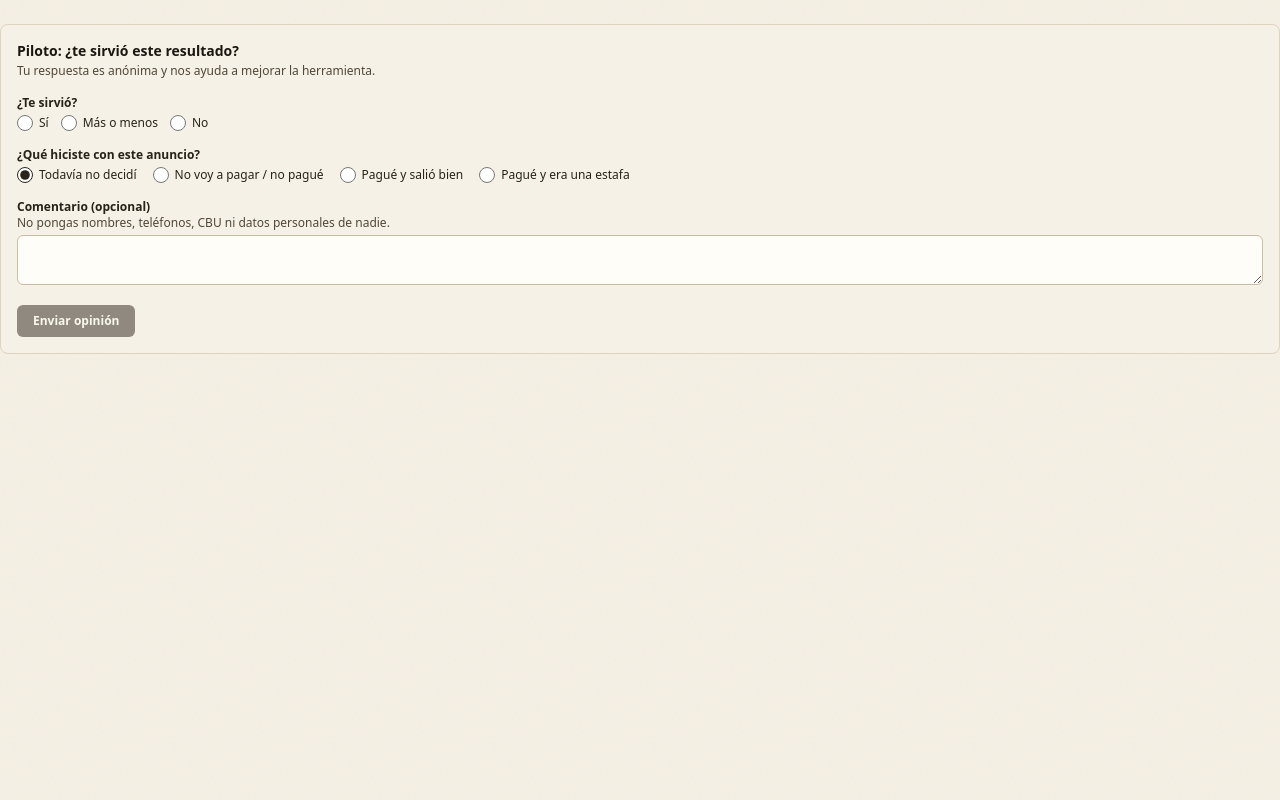
FeedbackCard › si falla el envío avisa con role=alert y deja reintentar sin perder lo escrito
Click the radio button labelled "Sí" at (25, 123), box [17,115,33,131]
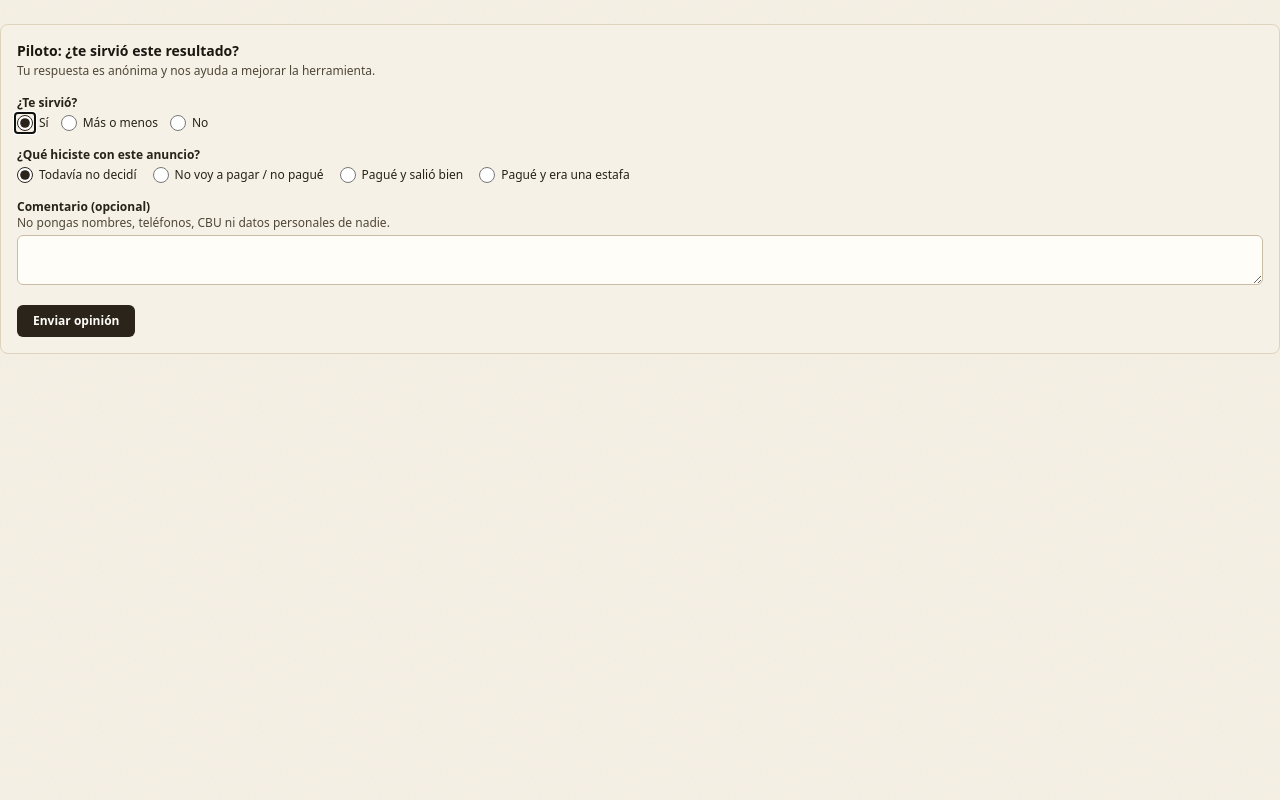
Type "texto" into the text box labelled "Comentario (opcional)" at (640, 260), box [17,235,1263,285]
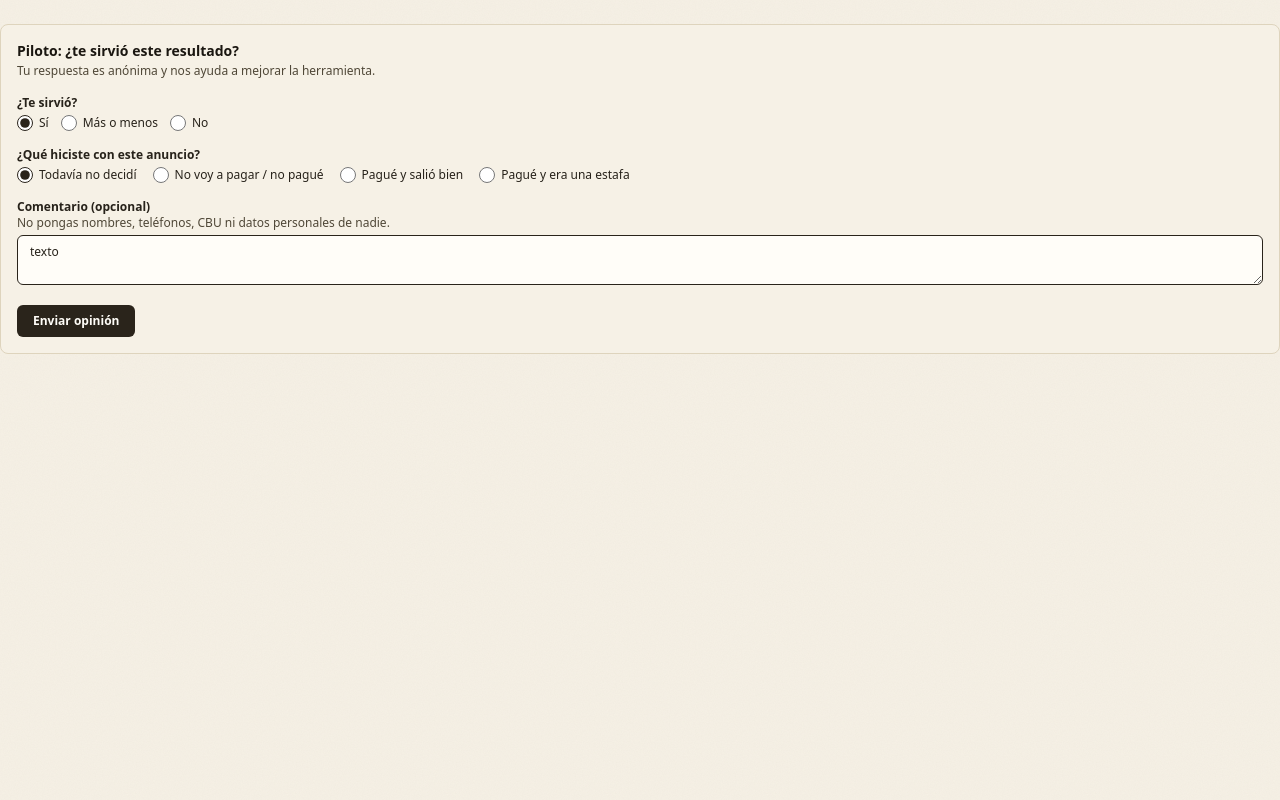
Click the button "Enviar opinión" at (76, 321), box [17,305,136,337]
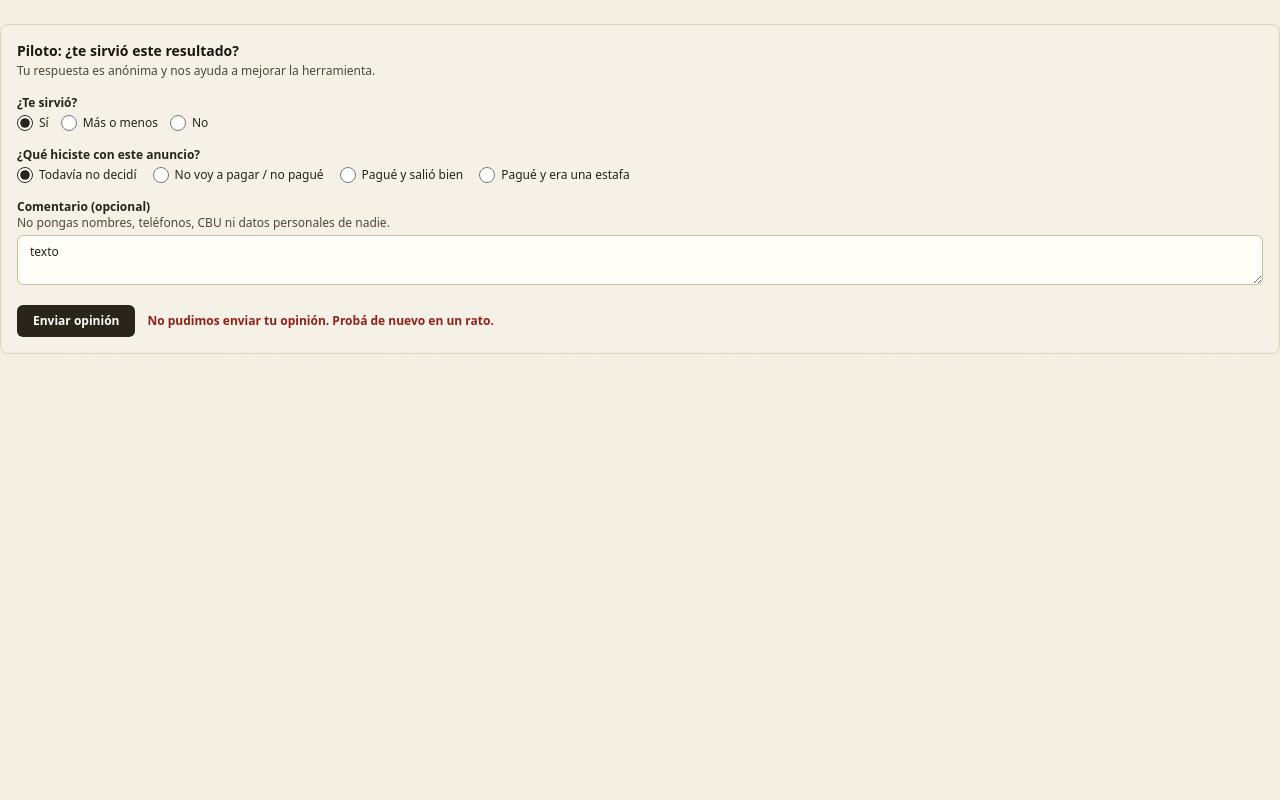
Expected: the message shows "No pudimos enviar", [148,312,494,329]
Click the button "Enviar opinión" at (76, 321), box [17,305,136,337]
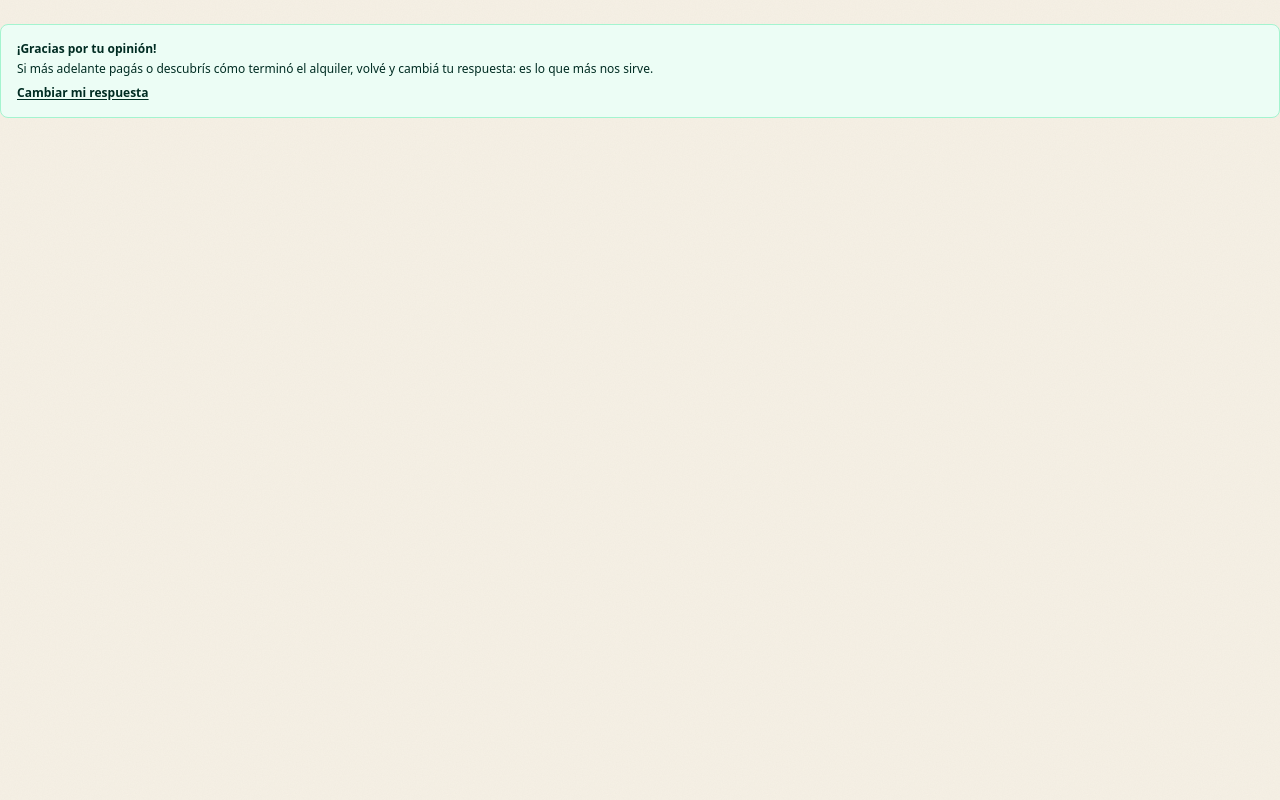
Expected: the message is shown, [0,24,1279,118]
